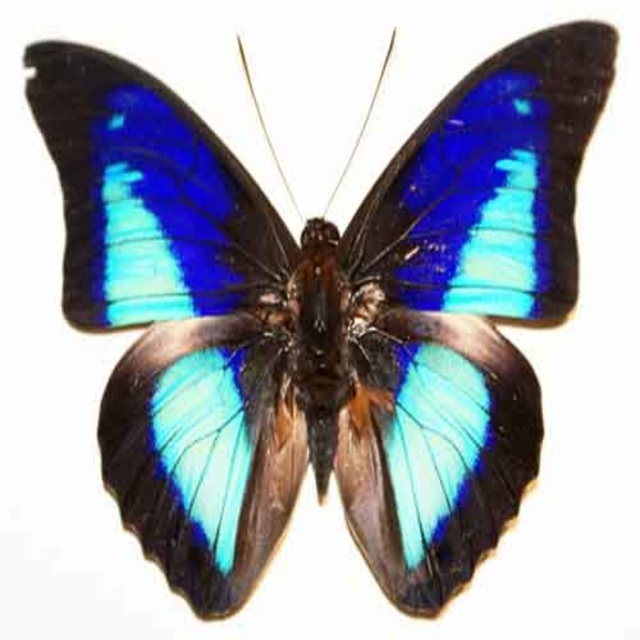Butterfly: (37, 3, 600, 640)
